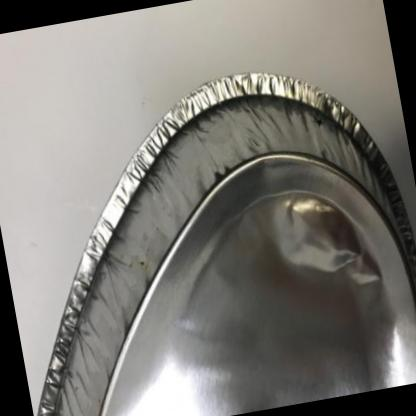Metal: (37, 74, 416, 416)
